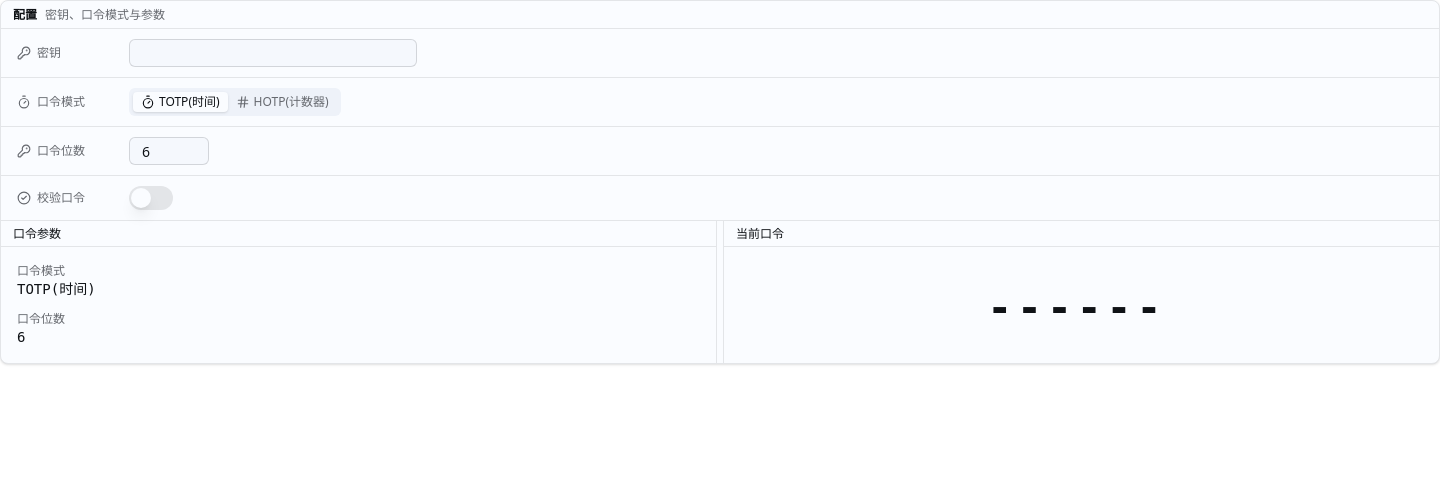
Test case: OtpGenerator › HOTP 模式按计数器生成 RFC 向量口令
Type "GEZDGNBVGY3TQOJQGEZDGNBVGY3TQOJQ" into the field named "Base32 密钥" at (273, 53), box 129,39 -> 417,67
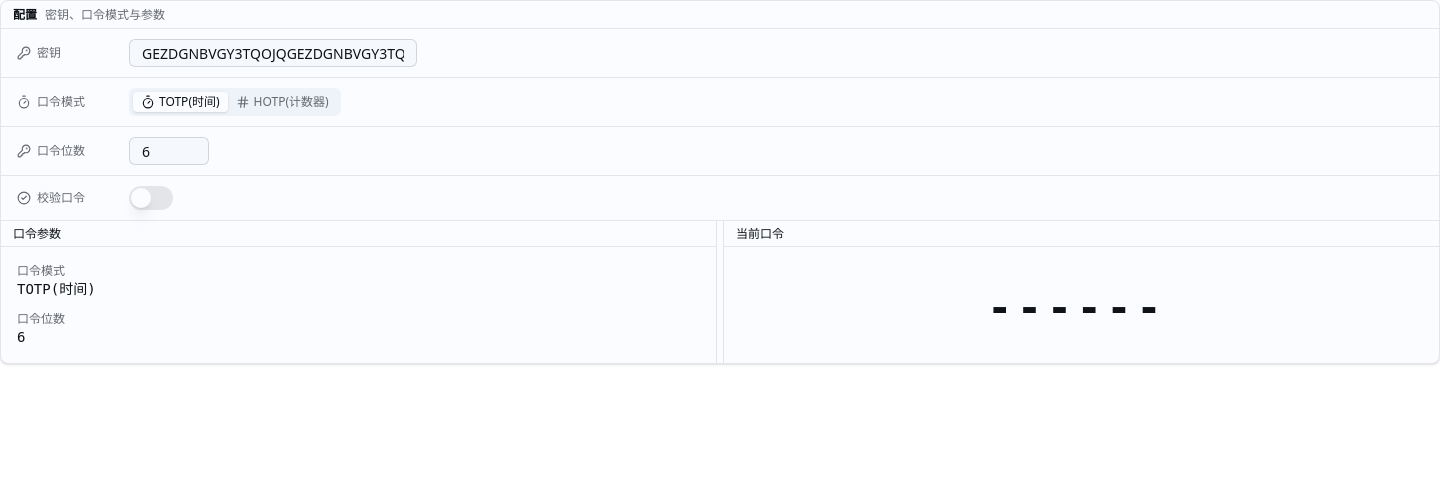
Press the mouse on the tab with test id "dir-hotp" at (282, 102), box 228,92 -> 337,112
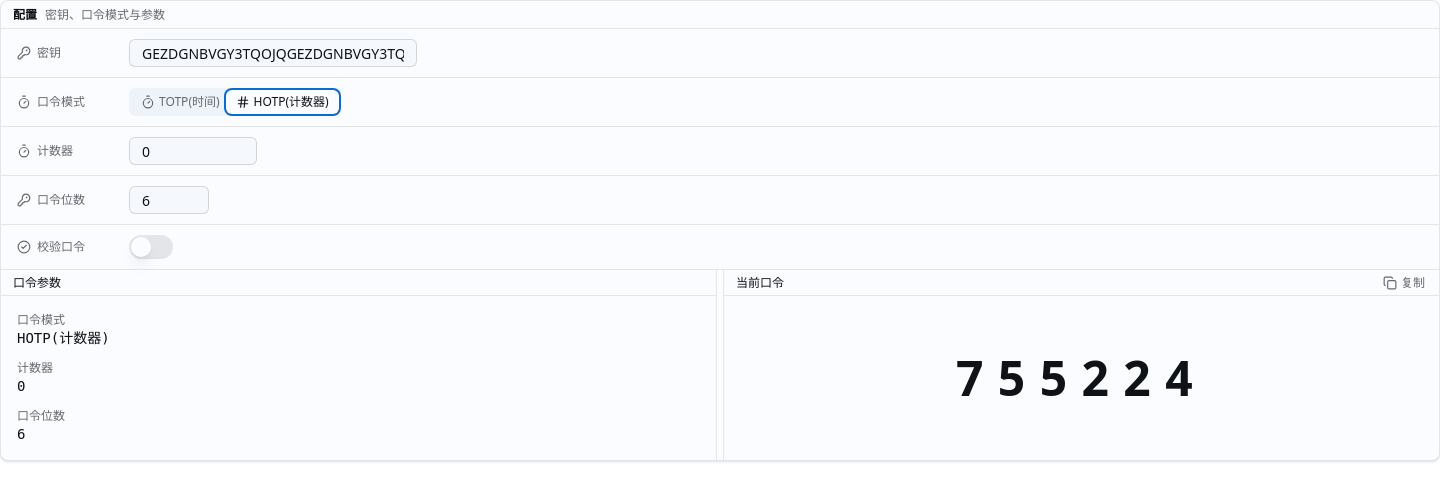
Result: the text with test id "otp-code" reads "755224" at 956,345 -> 1207,410
